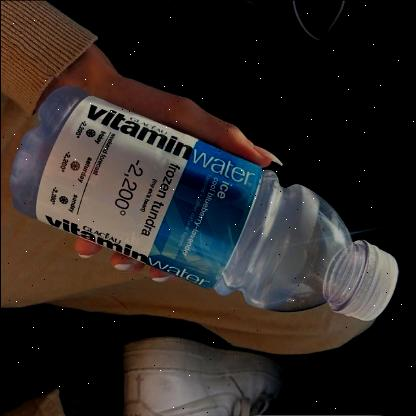Plastic Bottle: (10, 86, 398, 322)
